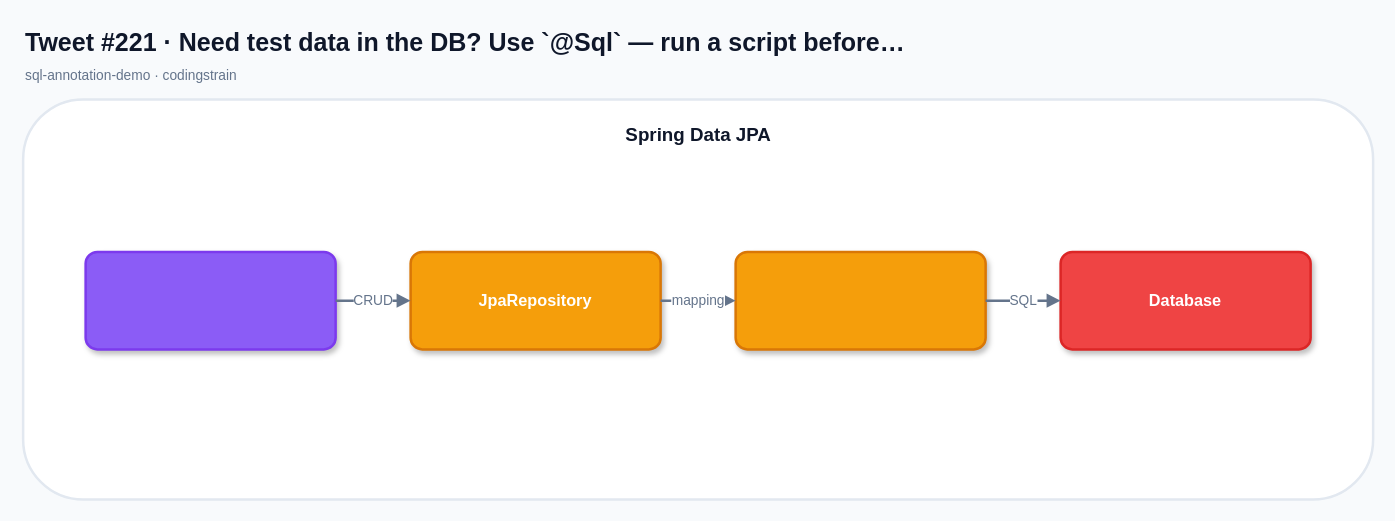
The diagram is 1395 pixels wide and 521 high, and some of its shapes have lost their labels. Each missing label, with the centre of its shape:
"Entity" goes at (861,302).
"Service / Test" goes at (211,302).
